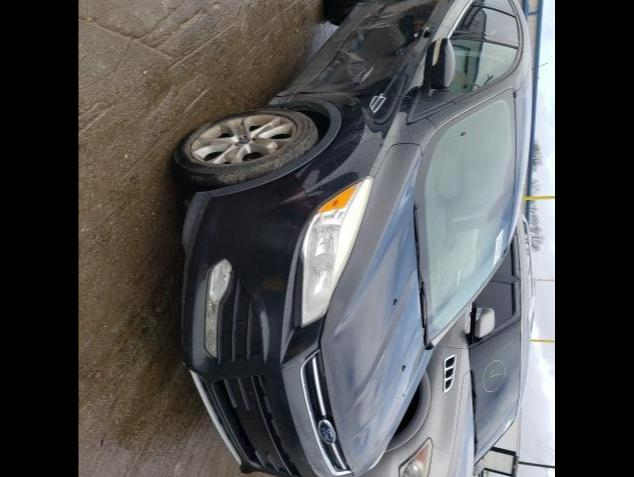Dent: (270, 0, 396, 108)
Scratch: (360, 2, 394, 28), (354, 63, 378, 84)
